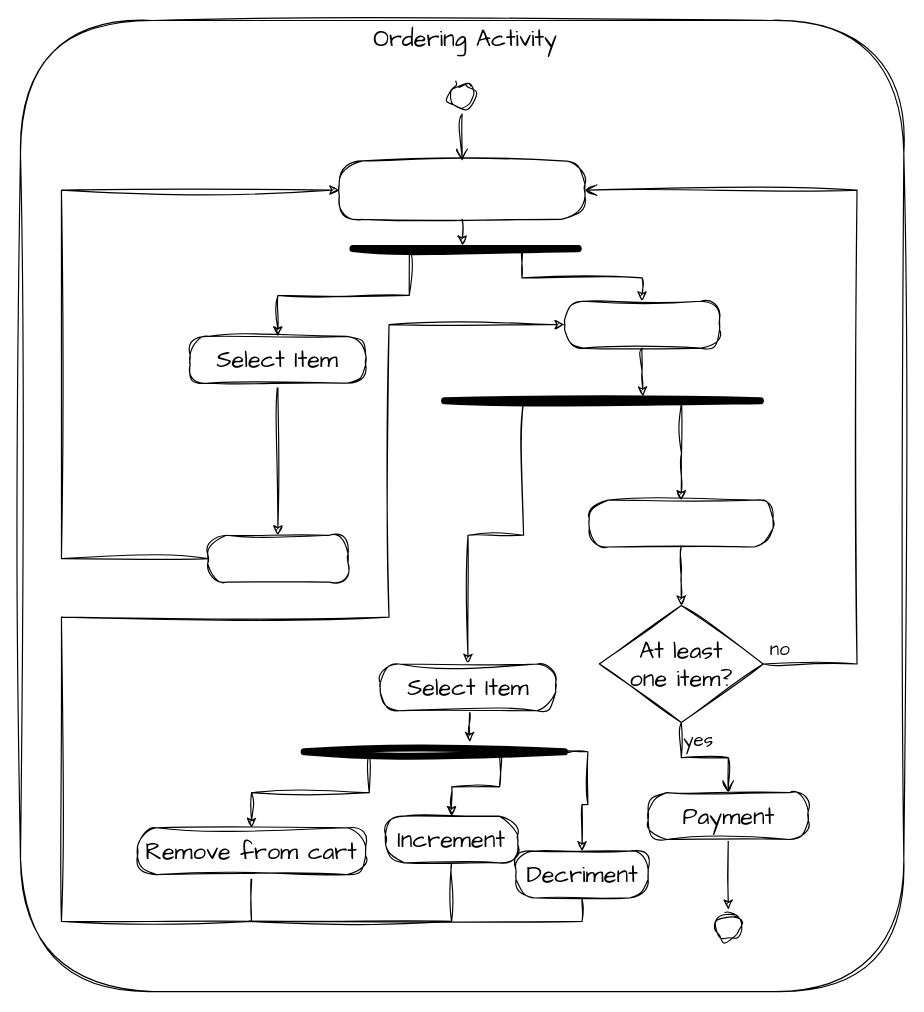
Some shapes in this 924 by 1012 pixel diagram are drawn without their labels. The box of each missing label's shape, as (x1, y1, x2, y2) in pixels:
Add to Cart: (207, 534, 348, 582)
Show Restaurant Menu: (338, 160, 585, 219)
Submit Cart: (588, 499, 773, 547)
View Cart: (563, 300, 720, 348)
